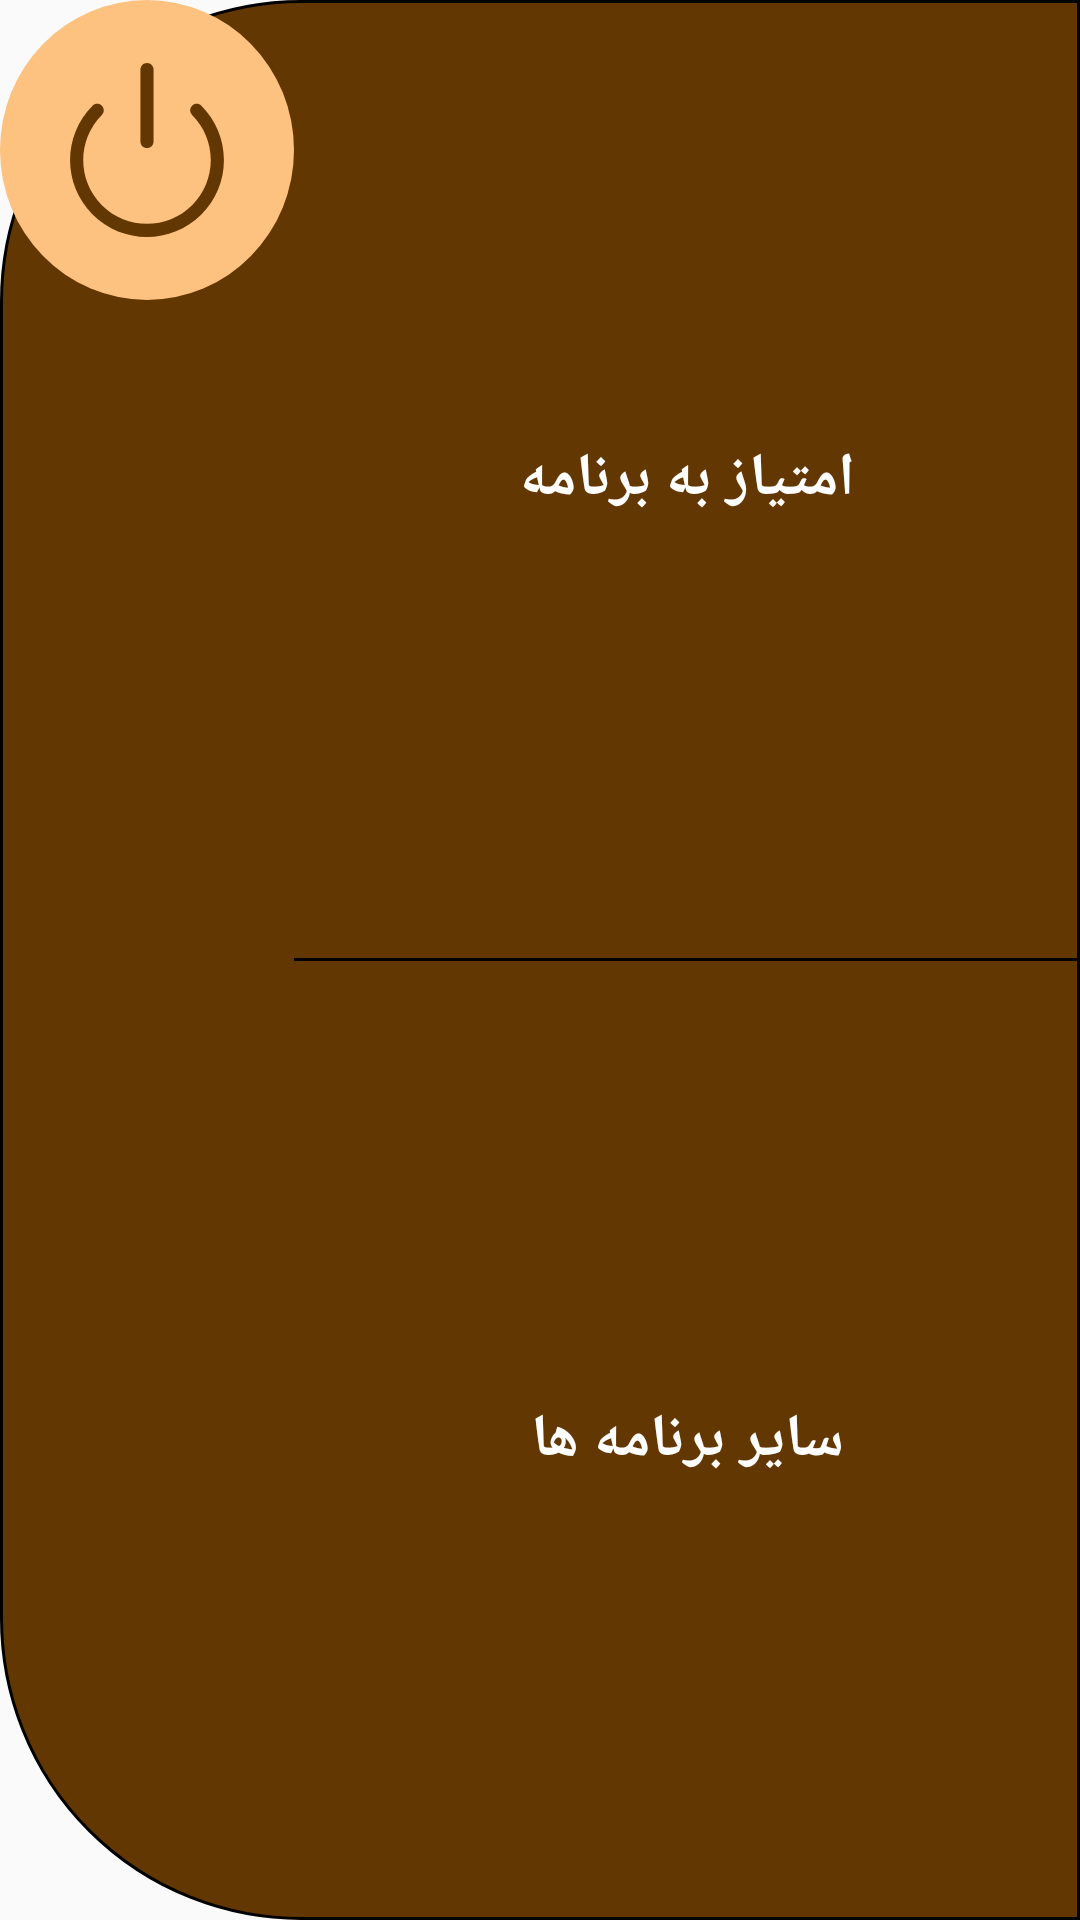

Named icons in this screenshot (1080px×1920px) and their centers, [x,y]:
off: [147,150]
